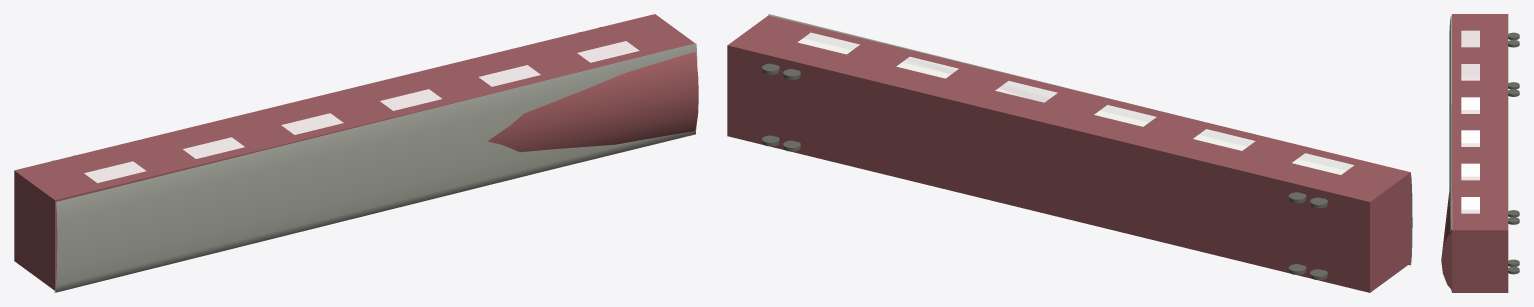
Rendered from asset6.glb.
3 views of the same model, side by side, from view 1: azimuth 30°, elevation 25°; view 2: azimuth 150°, elevation 25°; view 3: azimuth 270°, elevation 25° (orthographic). The views are drawn at different scales.
Visible parts, largest first — view 1: Cube1, Cube1_sep24, Cylinder3, Cube1_sep22; view 2: Cube1_sep24, Cube1_sep22, Cube1; view 3: Cube1_sep24, Cube1_sep22, Cylinder3, Cube1, Cube1_sep16, Cube1_sep21, Cube1_sep19, Cube1_sep18, Cube1_sep17, Cube1_sep14, Cube1_sep20, Cube1_sep15.
Boxes of the visible parts, x1,y1,x2,y2 form: Cube1: [54, 43, 697, 292]; Cube1_sep24: [14, 14, 695, 290]; Cylinder3: [488, 51, 698, 152]; Cube1_sep22: [84, 41, 639, 182]; Cube1_sep24: [727, 15, 1410, 292]; Cube1_sep22: [797, 32, 1354, 174]; Cube1: [768, 14, 1412, 265]; Cube1_sep24: [1452, 14, 1508, 292]; Cube1_sep22: [1461, 30, 1479, 213]; Cylinder3: [1441, 190, 1451, 289]; Cube1: [1449, 15, 1452, 291]; Cube1_sep16: [1508, 266, 1519, 274]; Cube1_sep21: [1508, 210, 1519, 217]; Cube1_sep19: [1508, 40, 1519, 47]; Cube1_sep18: [1508, 89, 1519, 96]; Cube1_sep17: [1508, 217, 1519, 224]; Cube1_sep14: [1508, 82, 1519, 89]; Cube1_sep20: [1508, 259, 1519, 266]; Cube1_sep15: [1508, 32, 1519, 39].
Size of the model in its own units: 1 by 0.1402 by 0.1533.
